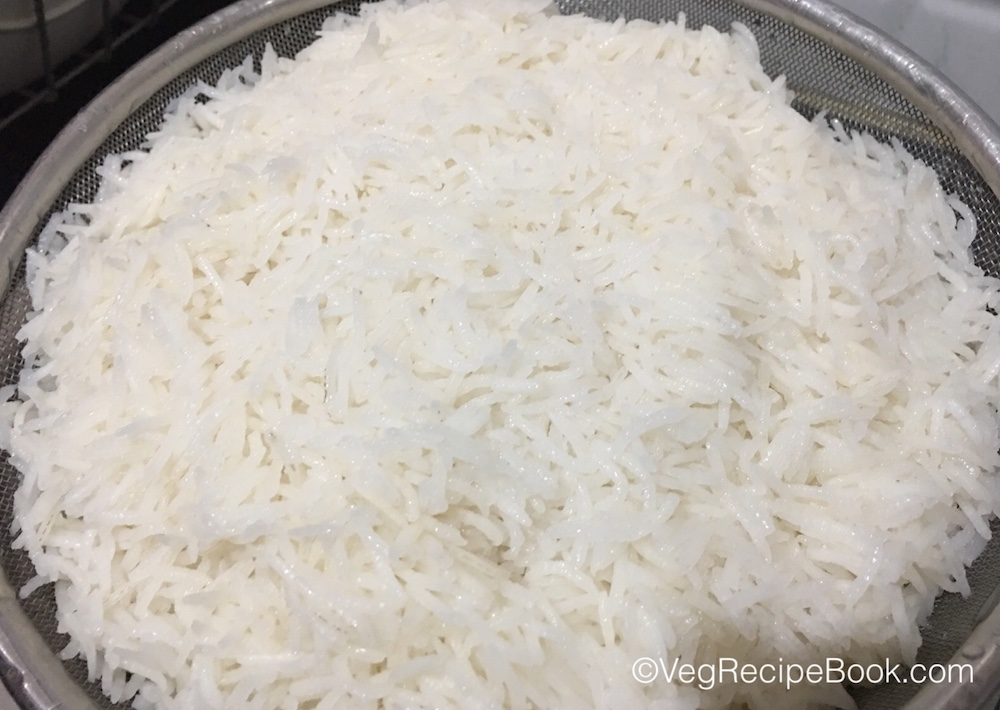plain rice: (25, 13, 963, 710)
